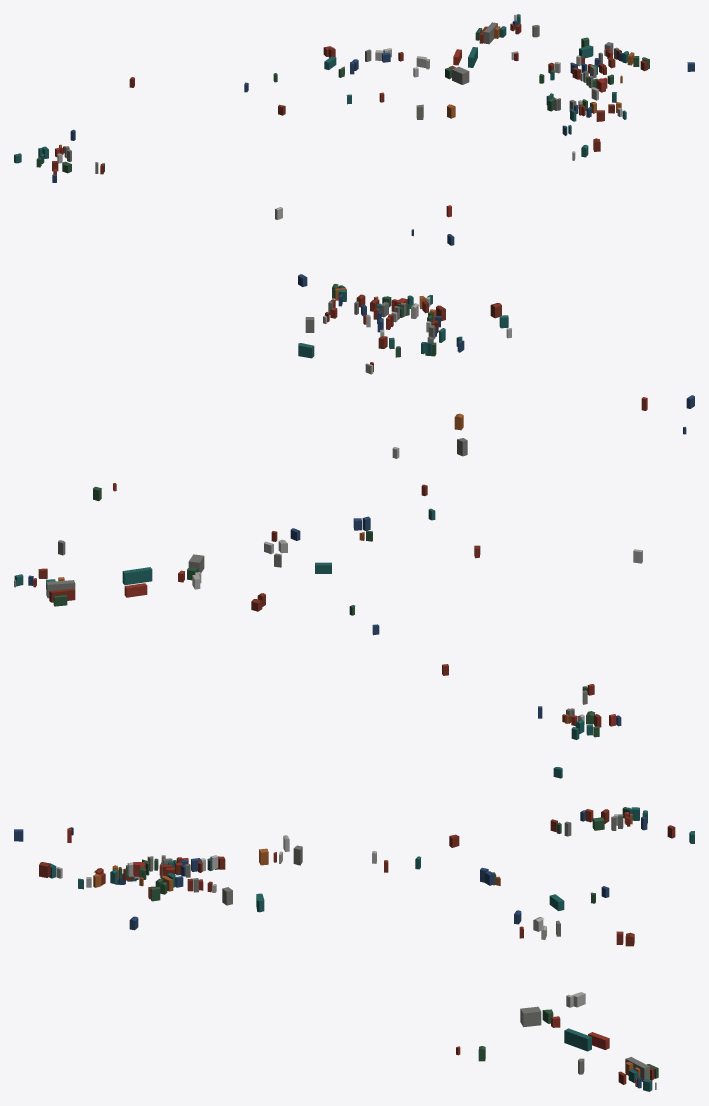
File: near-15-27363-14860.8ce4b0e3.glb
3 views of the same model, one above another, from view 1: azimuth 30°, elevation 25°; view 2: azimuth 150°, elevation 25°; view 3: azimuth 270°, elevation 25° (orthographic). The views are drawn at different scales.
Bounding box in the file's own units: 1178 × 381 × 1137.
